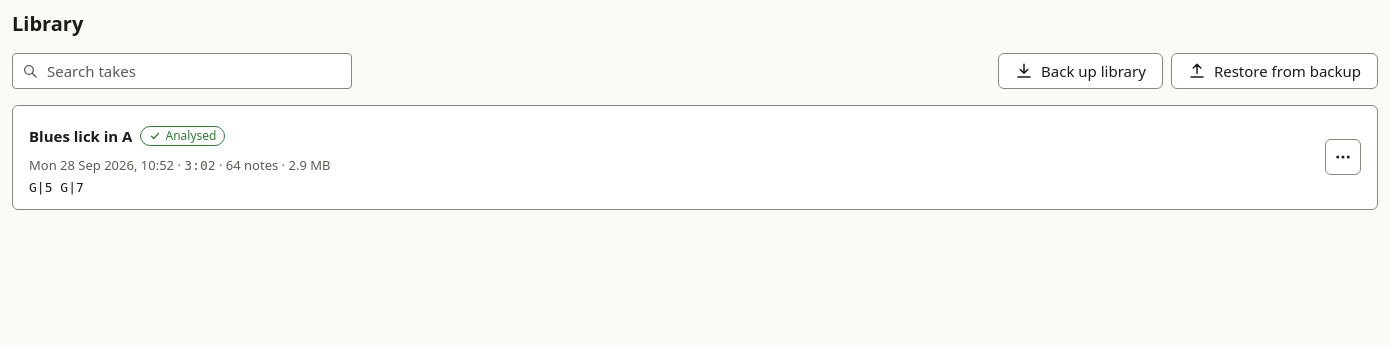
Test case: row actions › ↑/↓ move between items (wrapping); Esc closes and focus returns to the "⋯" button
The width and height of the screenshot is (1390, 347).
Click the button named "More actions for Blues lick in A": (1343, 157) [1325, 139, 1361, 175]
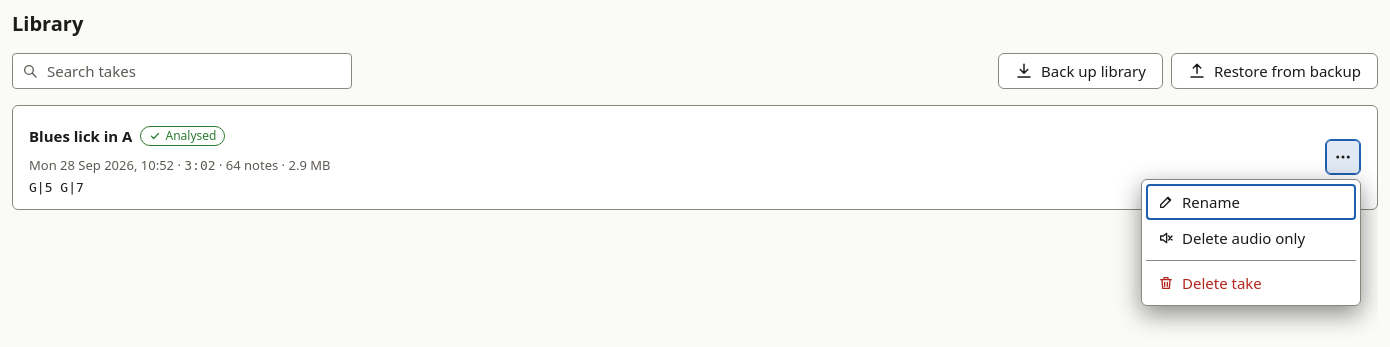
Press ArrowDown in the menu item "Rename", box [1146, 184, 1356, 220]
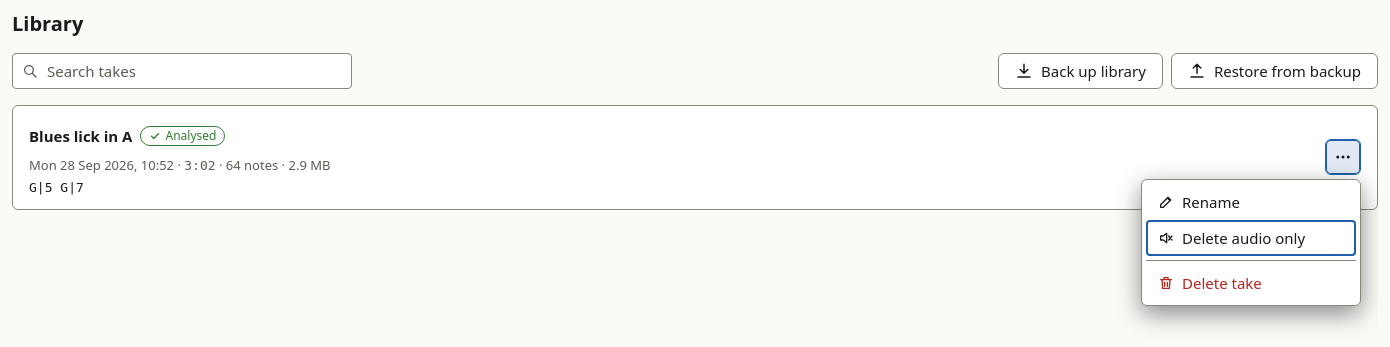
Result: the menu item "Delete audio only" is shown
Press ArrowDown in the menu item "Delete audio only", box [1146, 220, 1356, 256]
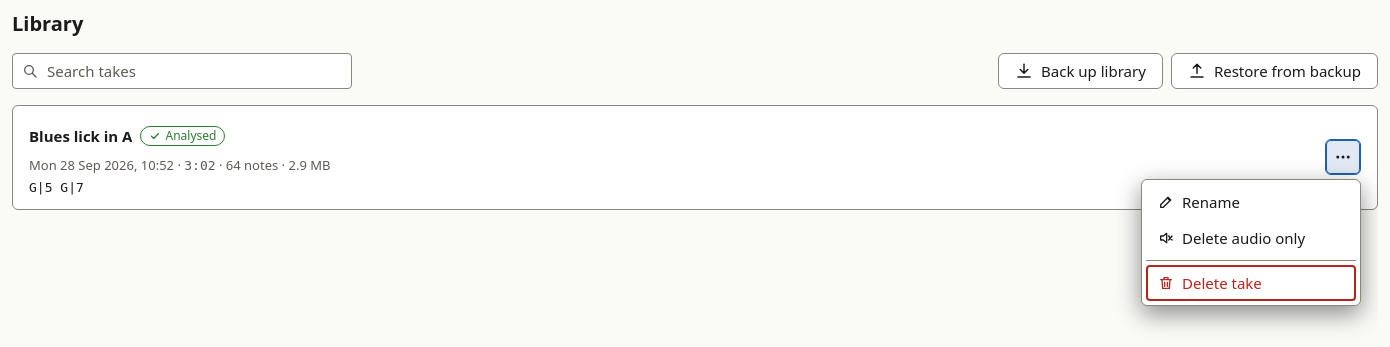
Result: the menu item "Delete take" is shown
Press ArrowDown in the menu item "Delete take", box [1146, 265, 1356, 301]
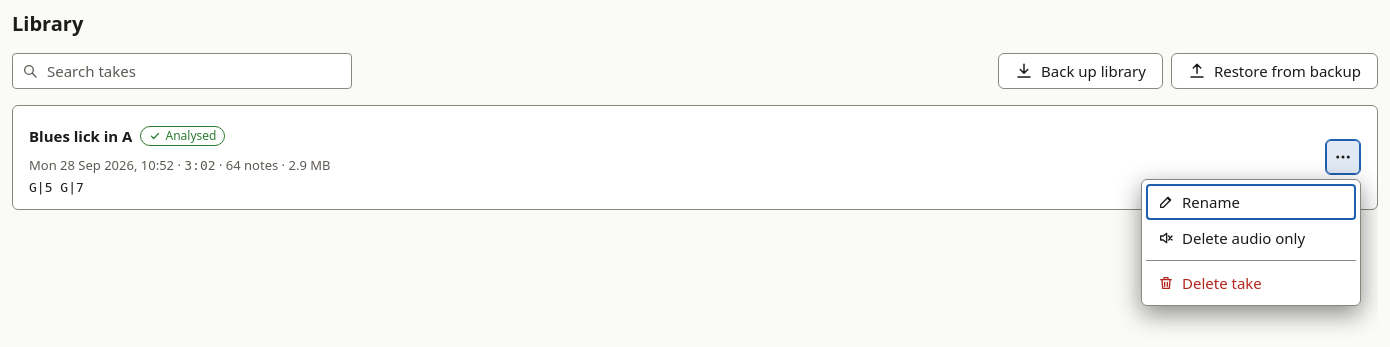
Result: the menu item "Rename" is shown
Press ArrowUp in the menu item "Rename", box [1146, 184, 1356, 220]
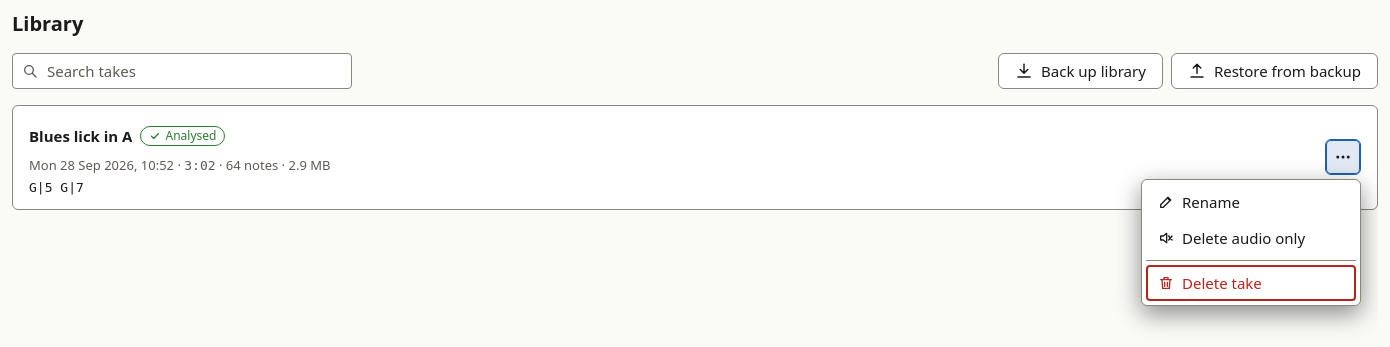
Result: the menu item "Delete take" is shown
Press Escape in the menu item "Delete take", box [1146, 265, 1356, 301]
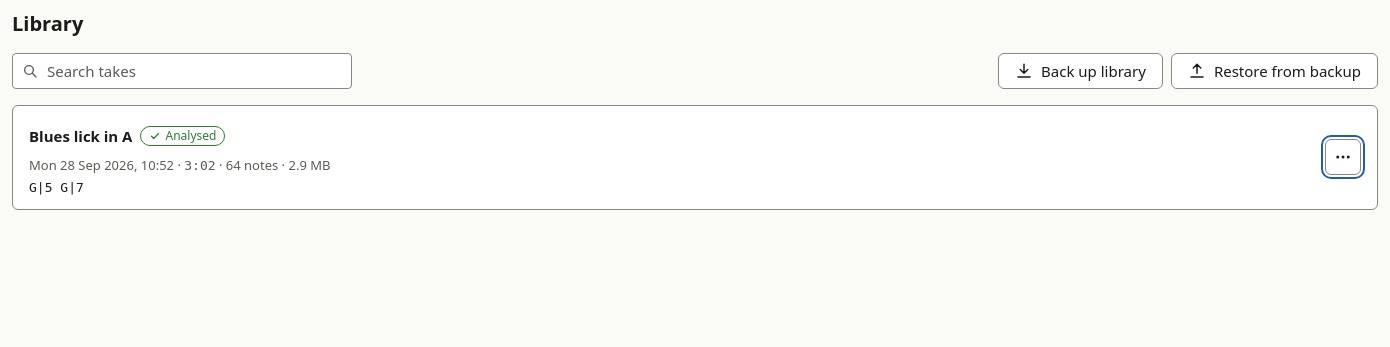
Result: the menu is gone
Result: the button named "More actions for Blues lick in A" is collapsed at [1325, 139, 1361, 175]
